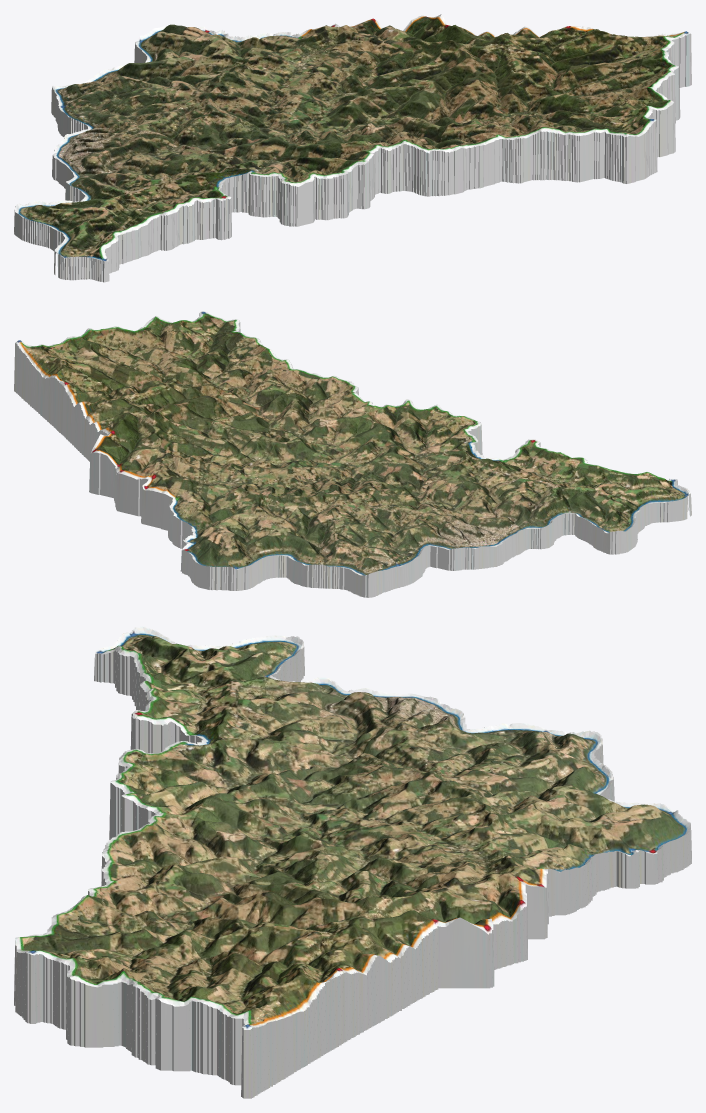
3 views of the same model, one above another, from view 1: azimuth 30°, elevation 25°; view 2: azimuth 150°, elevation 25°; view 3: azimuth 270°, elevation 25° (orthographic). The views are drawn at different scales.
Bounding box in the file's own units: 1 × 0.0807 × 0.6512.
Materials: 1 (1 with a texture image).
